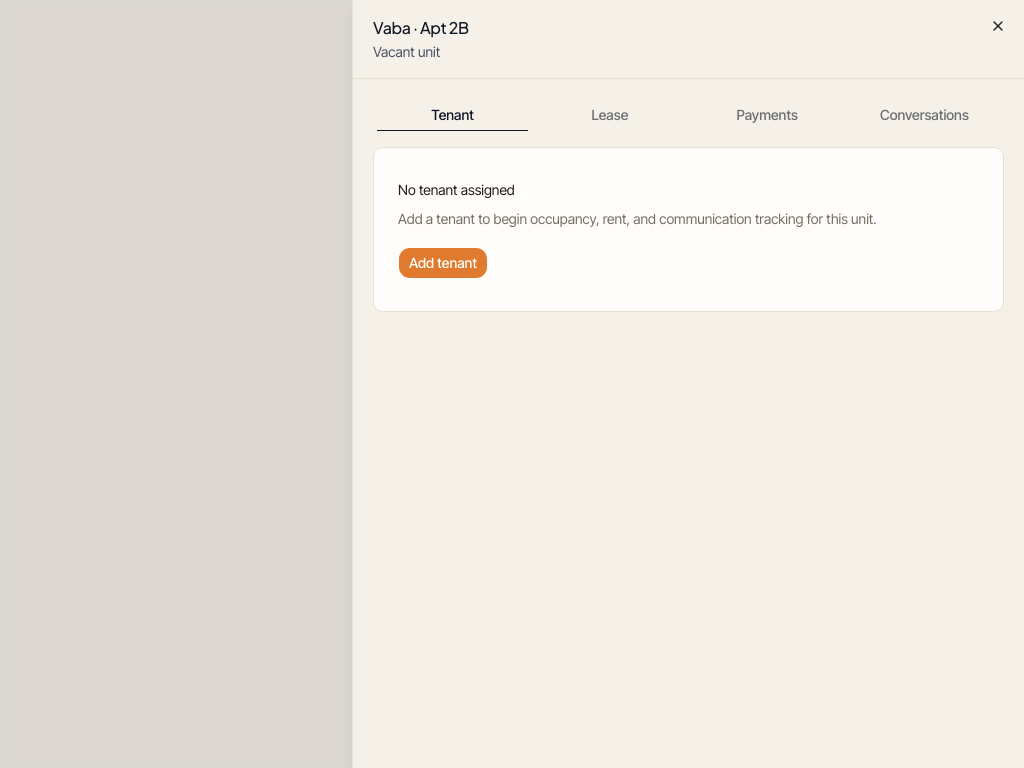
Test case: UnitDetailDrawer › open with vacant unit › renders the lease-empty placeholder on the Lease tab
This screenshot has width=1024, height=768.
What coordinates should you click on to do the following:
click the tab with test id "unit-detail-tab-lease"
I would click on:
 (610, 115)
Its box is [533,102,687,128].
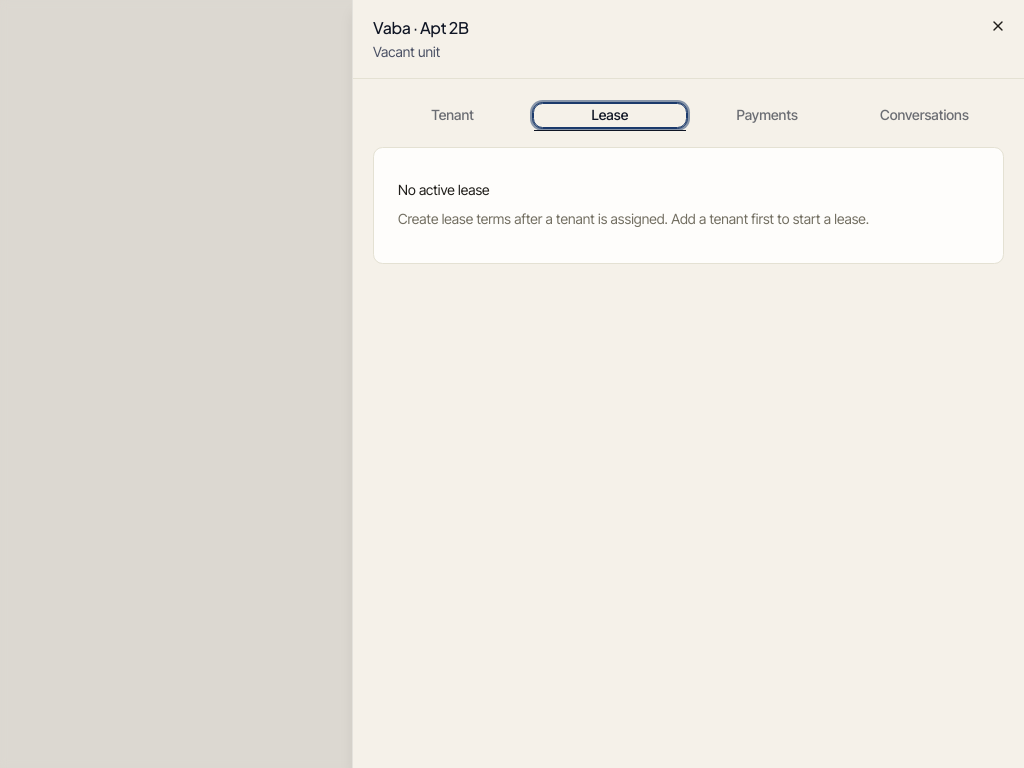
Check: the element with test id "unit-detail-drawer-lease-empty" is shown, box [373,147,1004,264]
